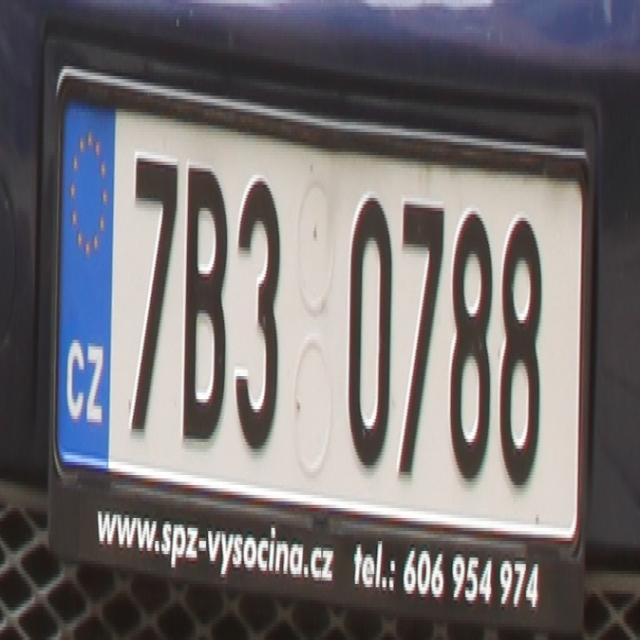0: (344, 185, 392, 485)
3: (233, 162, 278, 455)
7: (396, 188, 444, 488), (128, 148, 177, 436)
8: (495, 208, 545, 482), (447, 204, 492, 485)
B: (177, 152, 228, 452)
